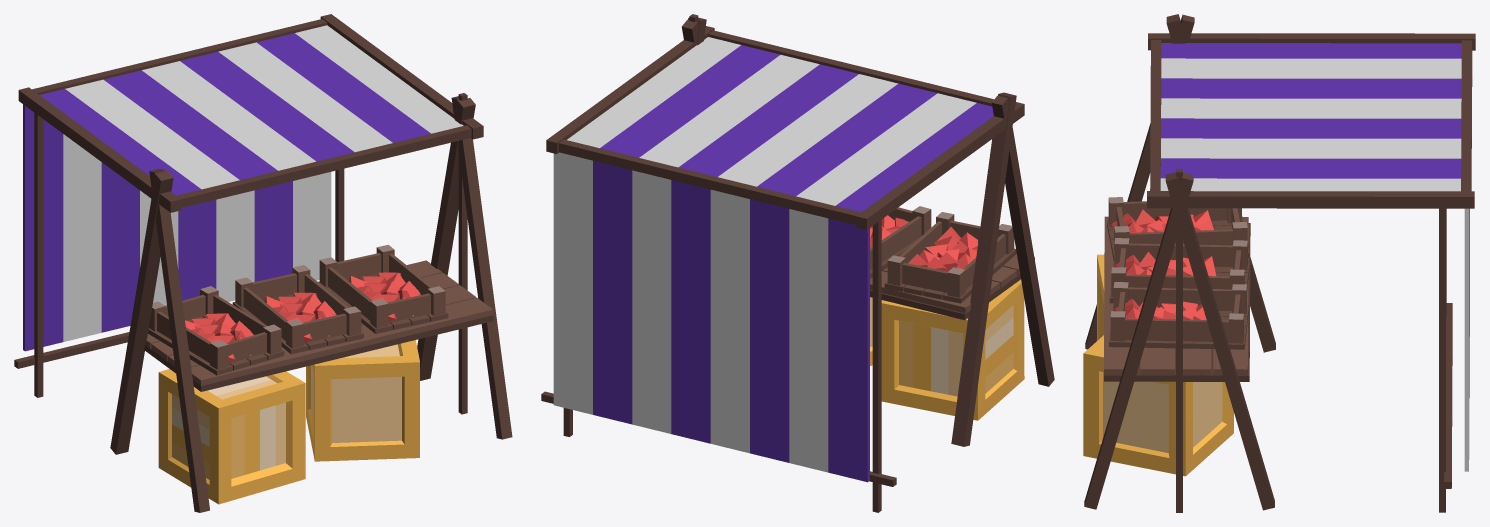
Rendered from prop_046.fbx.
3 views of the same model, side by side, from view 1: azimuth 30°, elevation 25°; view 2: azimuth 150°, elevation 25°; view 3: azimuth 270°, elevation 25° (orthographic). The views are drawn at different scales.
Parts seen in each view (by area): view 1: prop.046; view 2: prop.046; view 3: prop.046.
Part boxes in pixels (x1,y1,x2,y2): prop.046: [14, 14, 512, 512]; prop.046: [541, 14, 1054, 512]; prop.046: [1083, 14, 1475, 512].
Size of the model in its own units: 492 by 436 by 455.
Materials: 1 (1 with a texture image).
